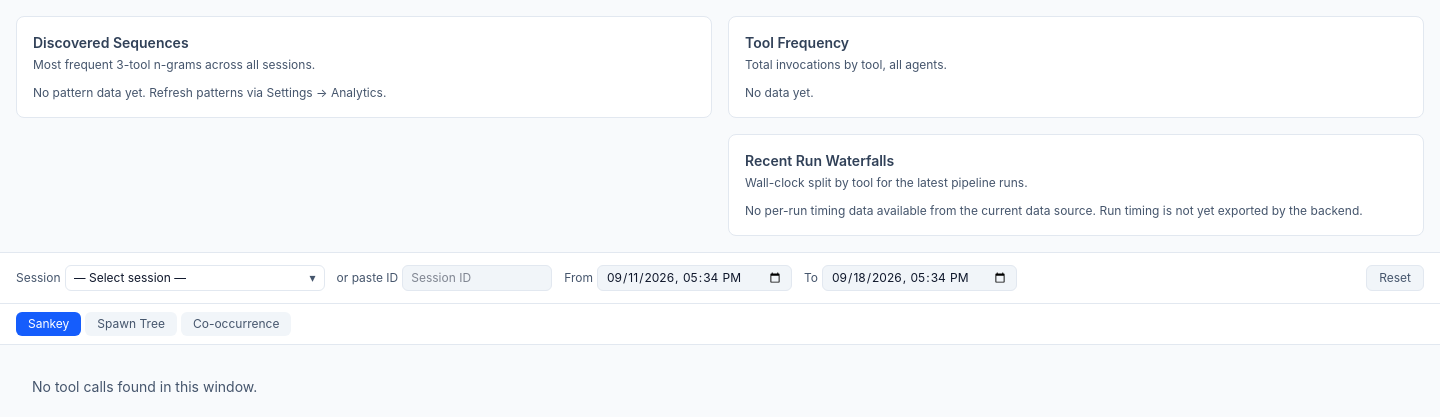
Test: workflowsView › shows Session DAG tab and makes it active when a session is selected from the dropdown
Click the dropdown labelled "— Select session — ▾": (130, 278) left=65, top=265, right=325, bottom=291
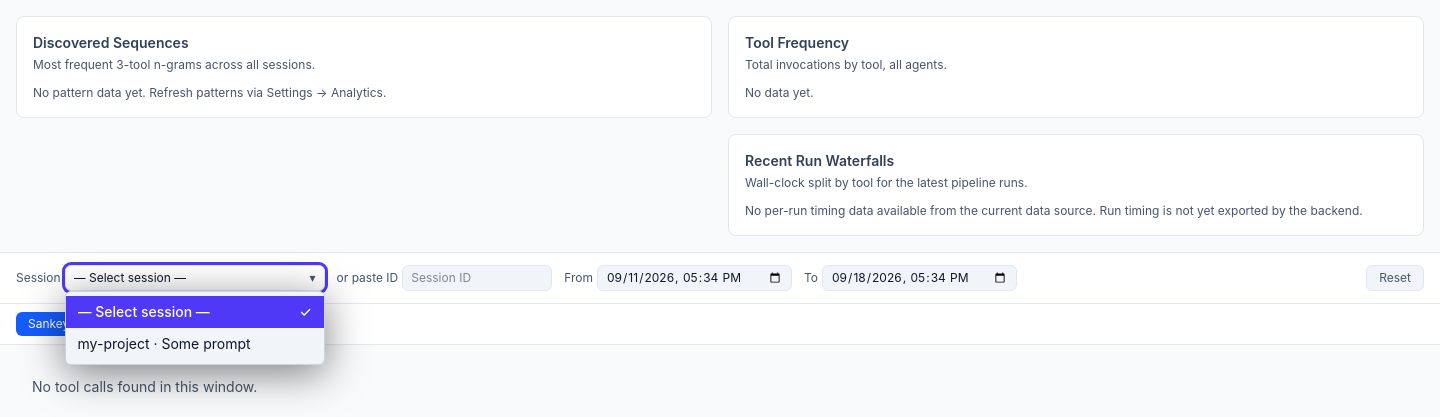
Click the option "my-project · Some prompt": (164, 344) left=78, top=335, right=251, bottom=352
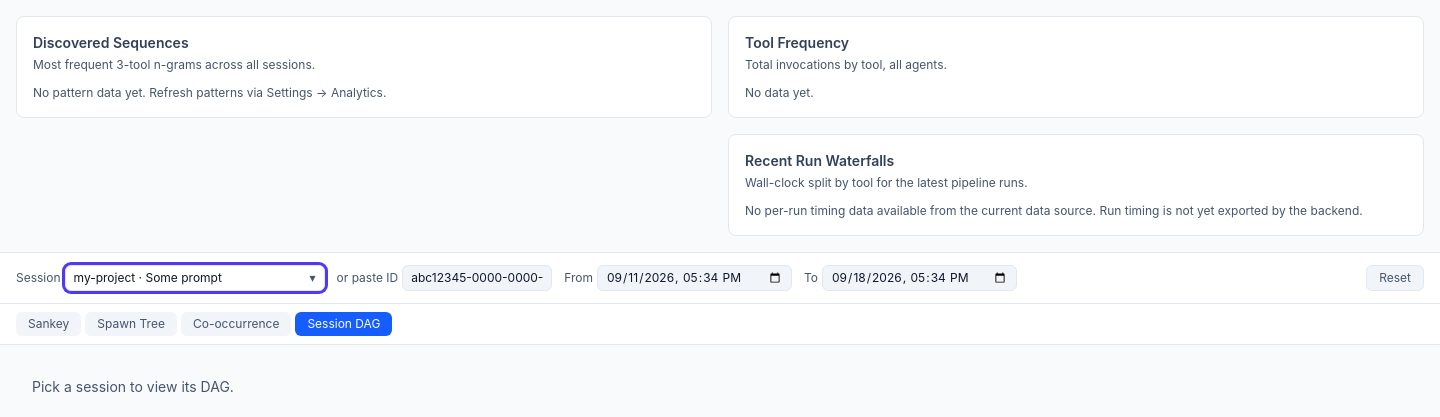
Check: the tab "Session DAG" is shown, box left=295, top=312, right=392, bottom=336
